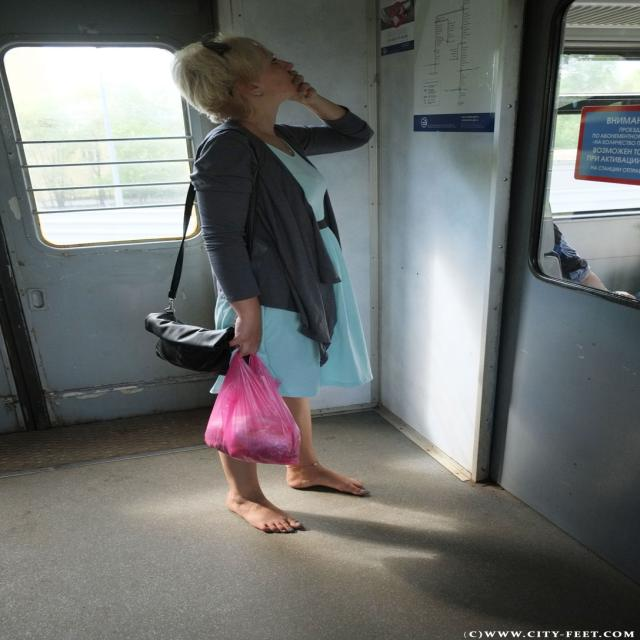No Safety Boots: (226, 490, 303, 533), (286, 468, 369, 496)
